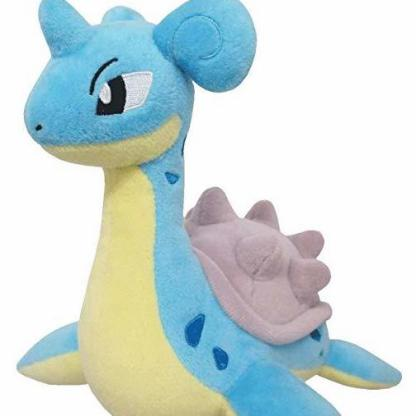Lapras: (16, 1, 416, 416)
